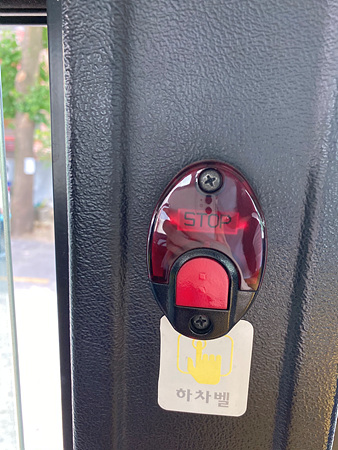bell: (147, 159, 266, 339)
